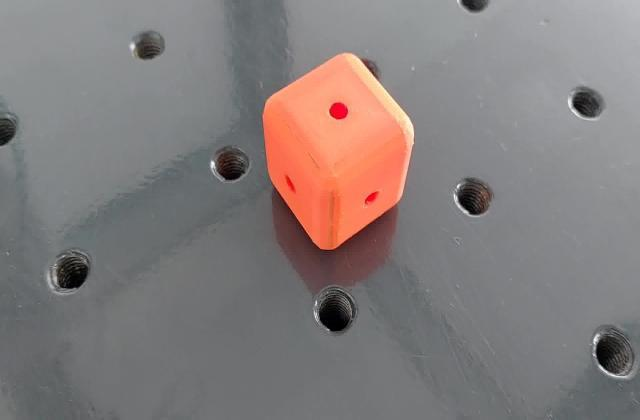cube: (256, 48, 419, 258)
